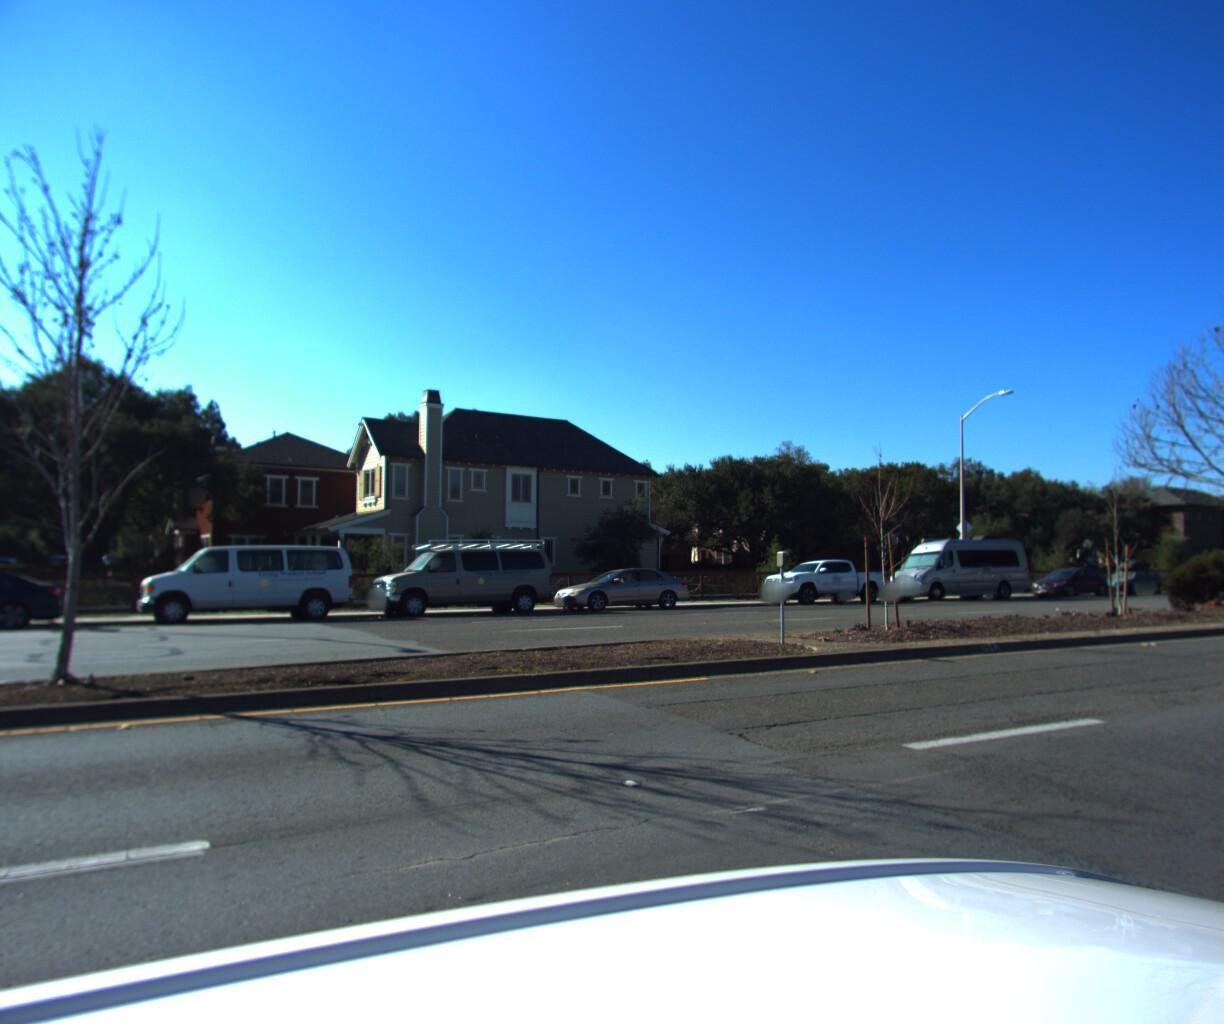car: (125, 534, 361, 627), (363, 536, 559, 617), (874, 528, 1034, 602), (750, 551, 894, 605), (542, 565, 696, 608), (1014, 563, 1116, 597), (1083, 557, 1165, 596)
other_vehicle: (1218, 531, 1224, 591)
